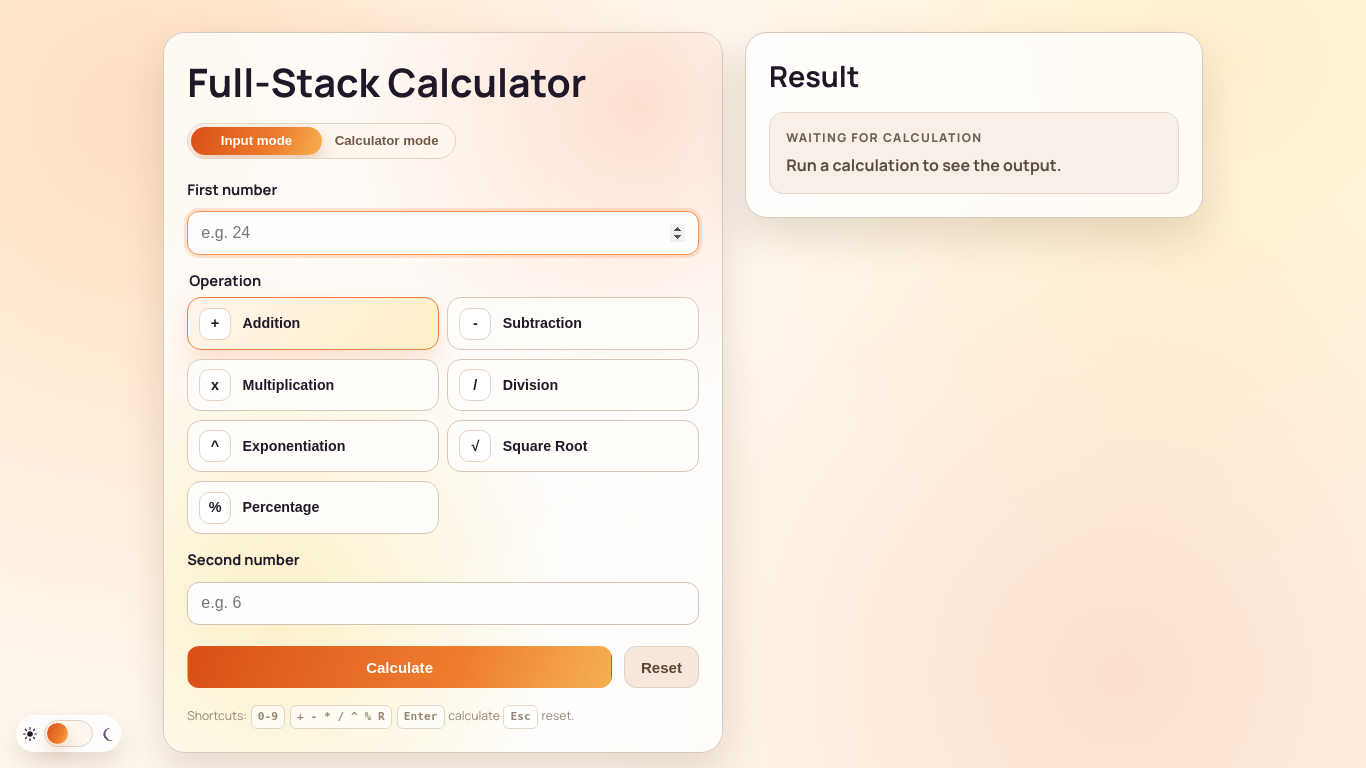
Test case: App › calculates square root with first operand only
Type "9" into the number field labelled "First number" at (443, 233), box [187,211,699,255]
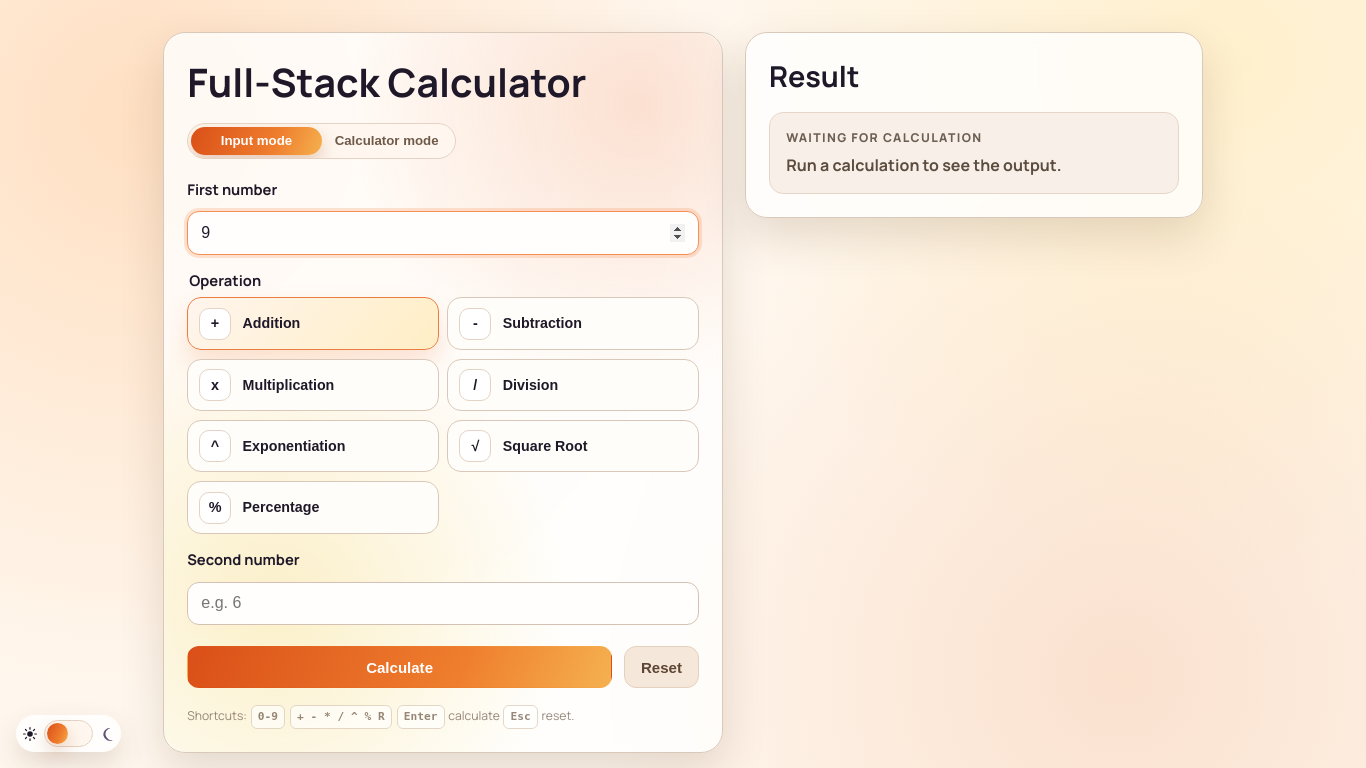
Click the button with aria-label "Square Root (R)" at (573, 446), box [448,420,699,472]
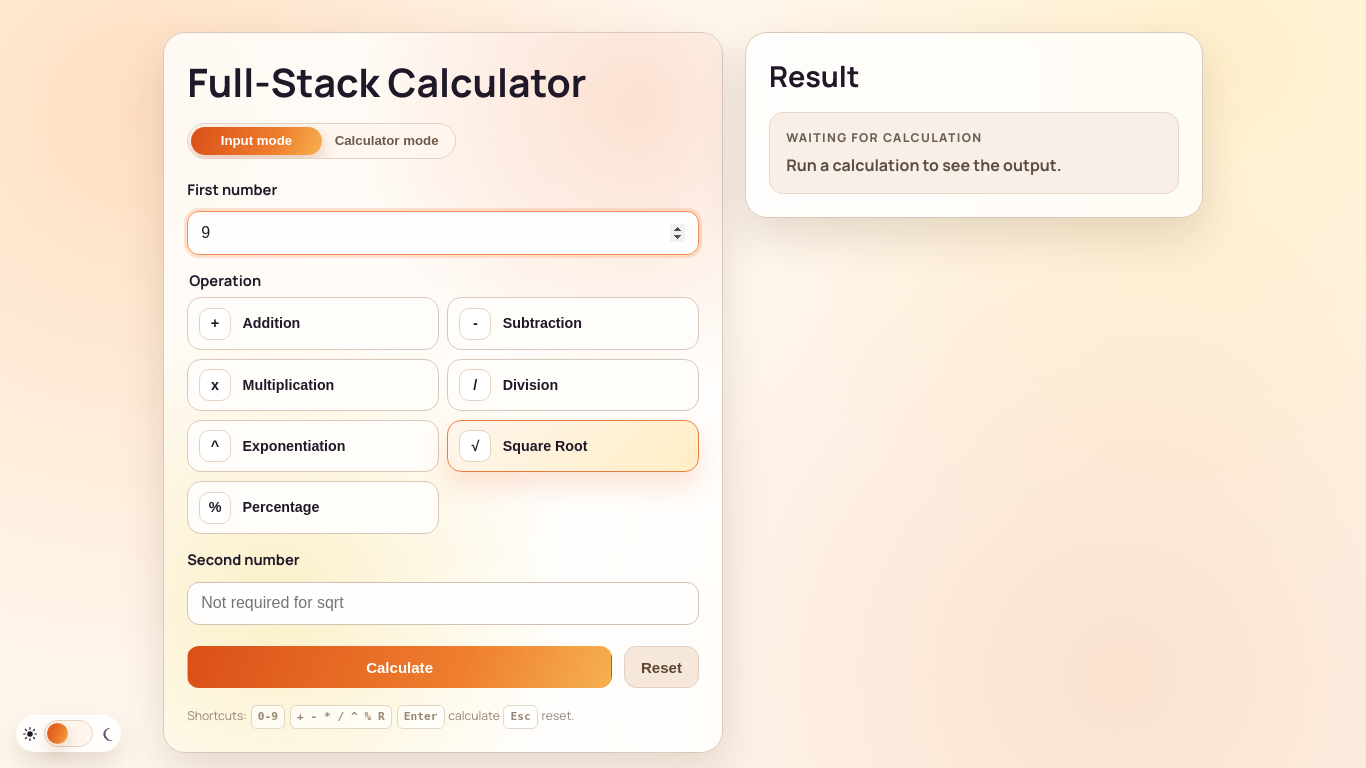
Click the button "Calculate" at (400, 667), box [187,646,612,688]
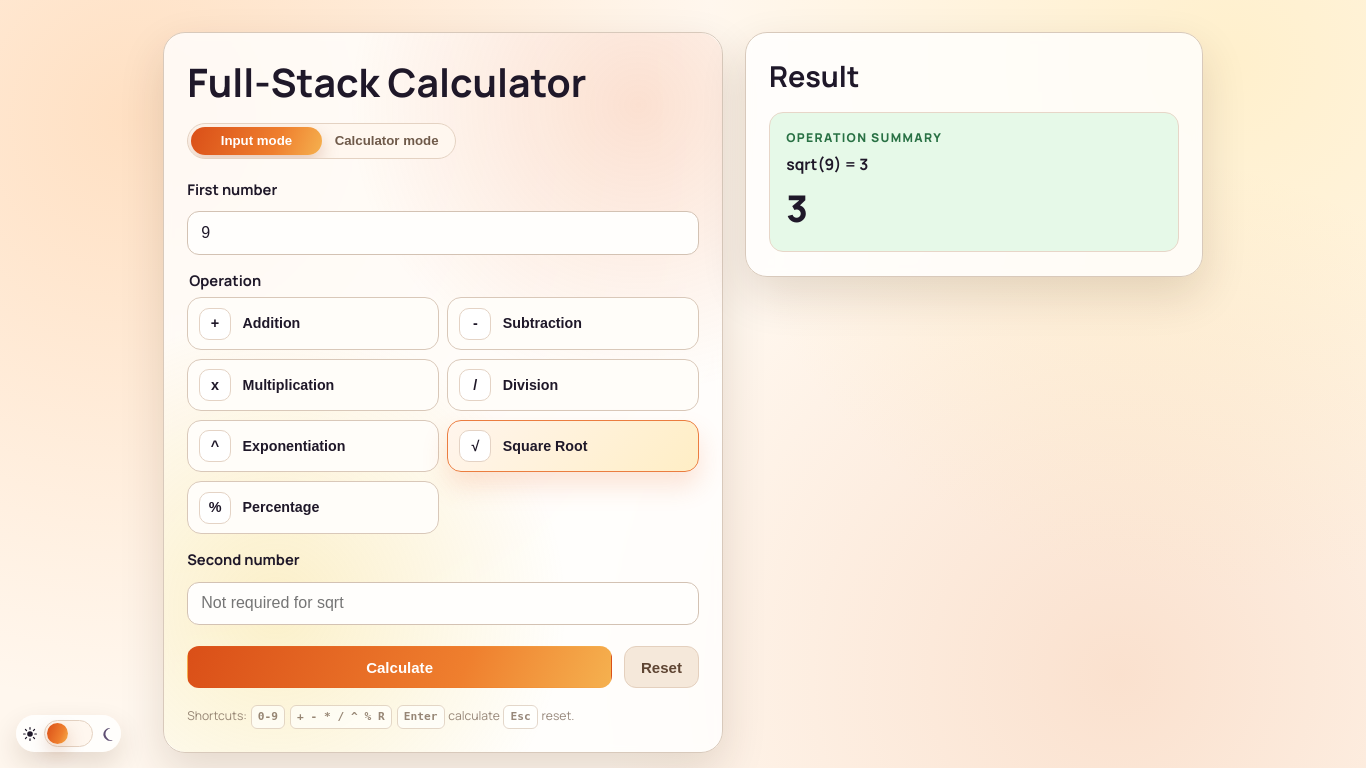
Expected: the text "3" is shown, [786,184,808,234]
Expected: the text "sqrt(9) = 3" is shown, [786,153,868,175]
